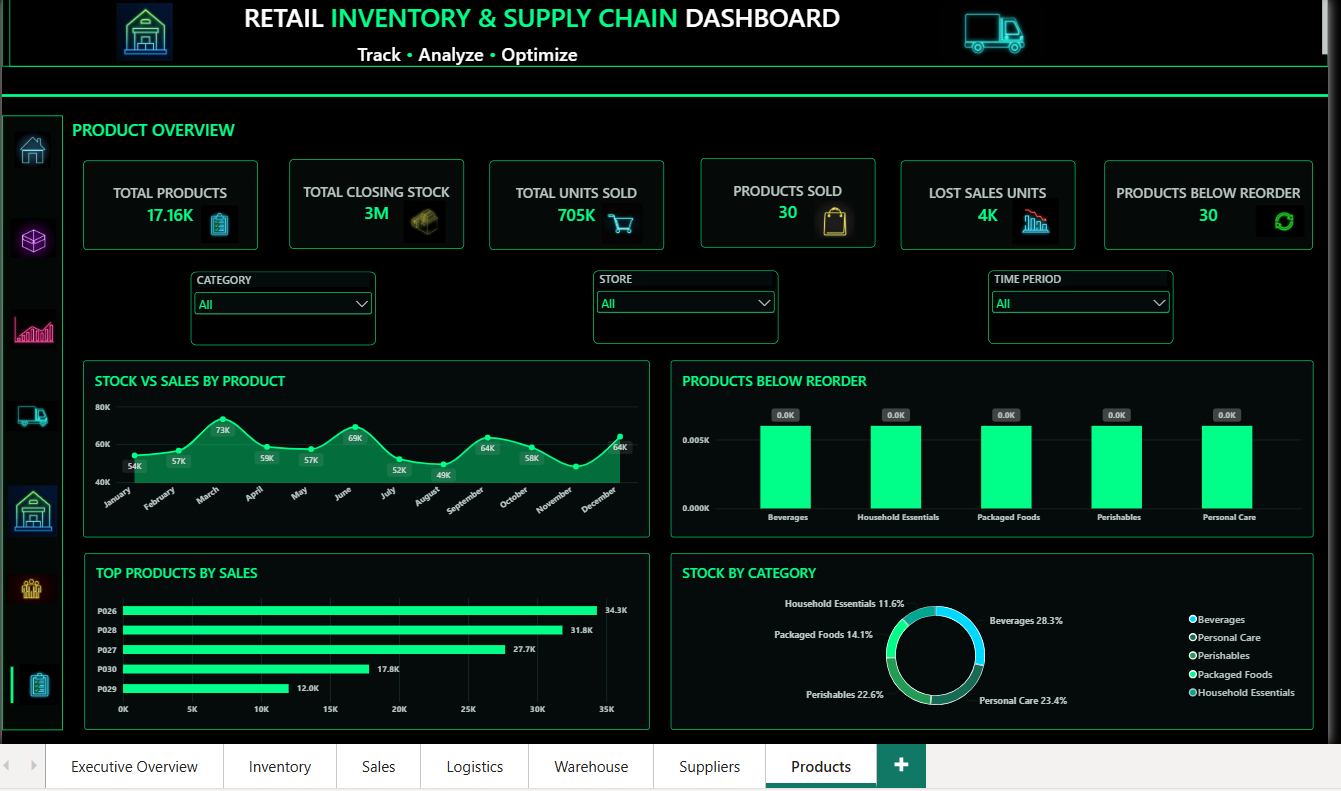

The dashboard page shown, as its layout file describes it:
{"tool":"powerbi","page":{"name":"Products","canvas":[1920,1080],"ordinal":6},"visuals":[{"type":"shape","box":[10.3,0,1910.1,100],"z":0},{"type":"shape","box":[0,99.5,1920.1,83.2],"z":1000},{"type":"textbox","box":[0,0,1920.1,99.5],"z":2000},{"type":"image","box":[1356,0,156,100],"z":3000},{"type":"shape","box":[0,170,88,890],"z":4000},{"type":"image","box":[10.9,193.6,67,52.5],"z":5000},{"type":"shape","box":[4,968,21.7,52.5],"z":6000},{"type":"image","box":[12,300,66,94],"z":7000},{"type":"image","box":[12,418,66,122],"z":8000},{"type":"image","box":[4,560,78,92],"z":9000},{"type":"image","box":[8,706,74,74],"z":10000},{"type":"image","box":[6,780,74,150],"z":11000},{"type":"image","box":[26,932,58,124],"z":12000},{"type":"textbox","box":[102,156,306,64],"z":13000},{"type":"cardVisual","fields":{"Data":["CountNonNull(inventory_ledger_clean.product_id)"]},"box":[117.4,234.7,253,129.5],"z":14000},{"type":"cardVisual","fields":{"Data":["inventory_ledger_clean.Products Sold"]},"box":[1012,232,253,129.5],"z":15000},{"type":"cardVisual","fields":{"Data":["Sum(inventory_ledger_clean.units_sold)"]},"box":[706.2,234.7,253,129.5],"z":16000},{"type":"cardVisual","fields":{"Data":["Sum(inventory_ledger_clean.closing_stock)"]},"box":[416,234,253,129.5],"z":17000},{"type":"cardVisual","fields":{"Data":["inventory_ledger_clean.Lost Sales Units"]},"box":[1301.2,234.7,253,129.5],"z":18000},{"type":"cardVisual","fields":{"Data":["inventory_ledger_clean.Products Below Reorder"]},"box":[1596.6,234.7,301.5,129.5],"z":19000},{"type":"stackedAreaChart","title":"STOCK VS SALES BY PRODUCT","fields":{"Category":["inventory_ledger_clean.week_start.Variation.Date Hierarchy.Month"],"Y":["Sum(inventory_ledger_clean.units_sold)"]},"box":[118,524,820,256],"z":20000},{"type":"donutChart","title":"STOCK BY CATEGORY","fields":{"Category":["inventory_ledger_clean.category"],"Y":["Sum(inventory_ledger_clean.closing_stock)"]},"box":[968,804,930,256],"z":21000},{"type":"clusteredBarChart","title":"TOP PRODUCTS BY SALES","fields":{"Y":["Sum(inventory_ledger_clean.units_sold)"],"Category":["inventory_ledger_clean.product_id"]},"box":[120,804,818,256],"z":22000},{"type":"clusteredColumnChart","title":"PRODUCTS BELOW REORDER","fields":{"Category":["inventory_ledger_clean.category"],"Y":["inventory_ledger_clean.Products Below Reorder"]},"box":[968,524,930,256],"z":23000},{"type":"slicer","fields":{"Values":["inventory_ledger_clean.category"]},"box":[274,396,268,106],"z":24000},{"type":"slicer","fields":{"Values":["inventory_ledger_clean.store_id"]},"box":[856,394,268,106],"z":25000},{"type":"slicer","fields":{"Values":["inventory_ledger_clean.week_start"]},"box":[1428,394,268,106],"z":26000},{"type":"image","box":[84,8,246,84],"z":27000},{"type":"image","box":[857.8,296.8,79.6,59.7],"z":28000},{"type":"image","box":[1453.2,289.5,86.9,67],"z":29000},{"type":"image","box":[570,293.2,83.2,61.5],"z":30000},{"type":"image","box":[1815.1,293.2,70.6,59.7],"z":31000},{"type":"image","box":[1163.6,293.2,83.2,54.3],"z":32000},{"type":"image","box":[275.1,300.4,79.6,54.3],"z":33000}]}

Visuals, with their boxes on the page's 1920x1080 design canvas (x1, y1, x2, y2). These are canvas units, not pixel positions in the 1341x791 screenshot, which may show the page scaled, cropped or inside an application window:
shape: [10, 0, 1920, 100]
shape: [0, 100, 1920, 183]
textbox: [0, 0, 1920, 100]
image: [1356, 0, 1512, 100]
shape: [0, 170, 88, 1060]
image: [11, 194, 78, 246]
shape: [4, 968, 26, 1020]
image: [12, 300, 78, 394]
image: [12, 418, 78, 540]
image: [4, 560, 82, 652]
image: [8, 706, 82, 780]
image: [6, 780, 80, 930]
image: [26, 932, 84, 1056]
textbox: [102, 156, 408, 220]
cardVisual - CountNonNull(inventory_ledger_clean.product_id): [117, 235, 370, 364]
cardVisual - inventory_ledger_clean.Products Sold: [1012, 232, 1265, 362]
cardVisual - Sum(inventory_ledger_clean.units_sold): [706, 235, 959, 364]
cardVisual - Sum(inventory_ledger_clean.closing_stock): [416, 234, 669, 364]
cardVisual - inventory_ledger_clean.Lost Sales Units: [1301, 235, 1554, 364]
cardVisual - inventory_ledger_clean.Products Below Reorder: [1597, 235, 1898, 364]
"STOCK VS SALES BY PRODUCT" stackedAreaChart: [118, 524, 938, 780]
"STOCK BY CATEGORY" donutChart: [968, 804, 1898, 1060]
"TOP PRODUCTS BY SALES" clusteredBarChart: [120, 804, 938, 1060]
"PRODUCTS BELOW REORDER" clusteredColumnChart: [968, 524, 1898, 780]
slicer - inventory_ledger_clean.category: [274, 396, 542, 502]
slicer - inventory_ledger_clean.store_id: [856, 394, 1124, 500]
slicer - inventory_ledger_clean.week_start: [1428, 394, 1696, 500]
image: [84, 8, 330, 92]
image: [858, 297, 937, 356]
image: [1453, 290, 1540, 356]
image: [570, 293, 653, 355]
image: [1815, 293, 1886, 353]
image: [1164, 293, 1247, 348]
image: [275, 300, 355, 355]
